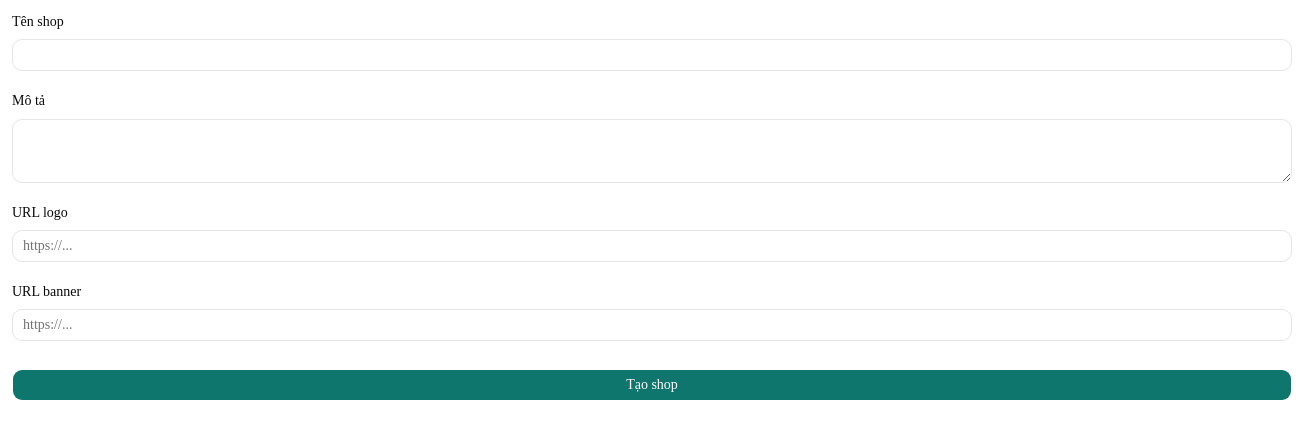
BecomeSellerForm › shows a field error and does not submit when name is empty
This screenshot has width=1304, height=445.
Click the button "Tạo shop": point(652, 385) [12, 369, 1292, 401]
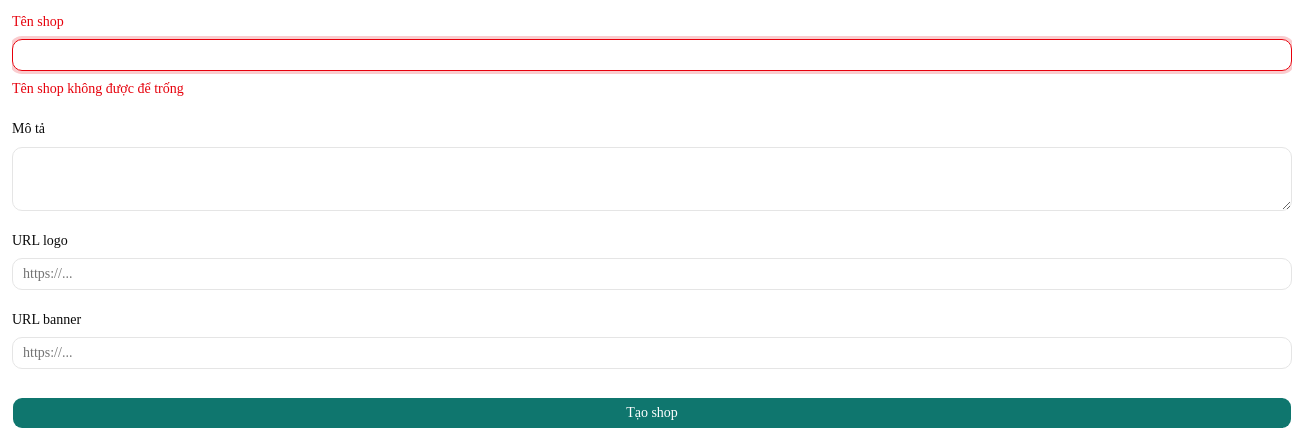
Result: the text "Tên shop không được để trống" is shown at [12, 81, 184, 96]
